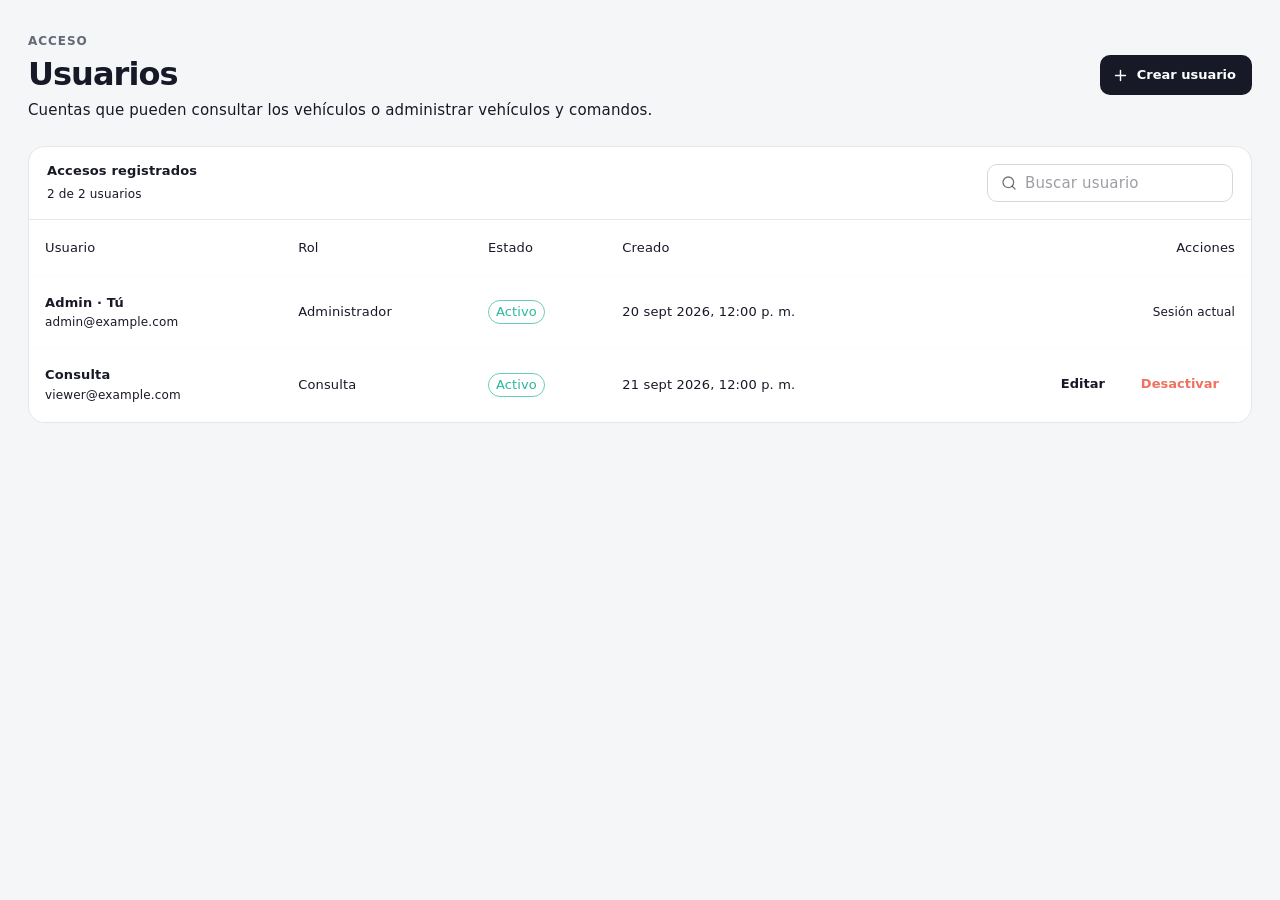
UsersPage › abre el formulario para crear una cuenta
Expected: the text "Admin · Tú" is shown, [45,294,124,310]
Click the button "Crear usuario": (1176, 75) [1100,55,1252,95]
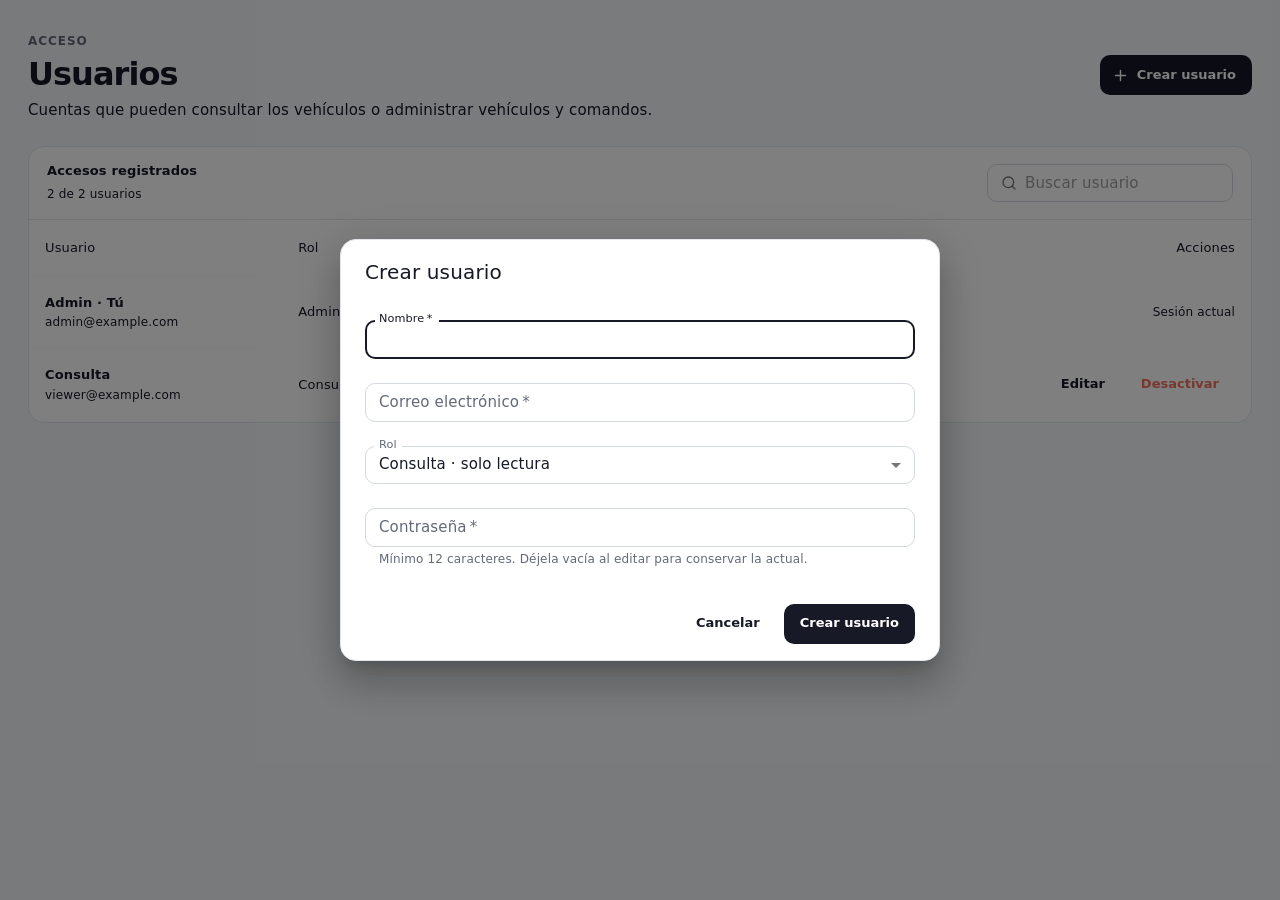
Expected: the dialog "Crear usuario" is shown, [340,240,940,660]
